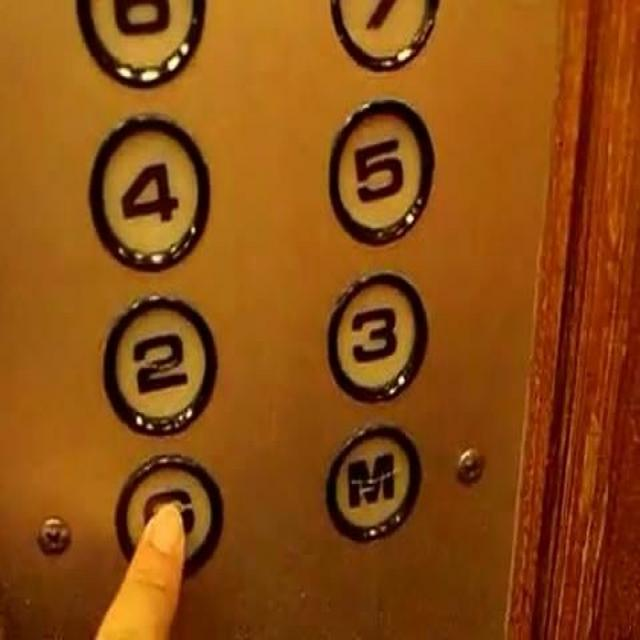2: (96, 288, 219, 441)
3: (322, 264, 430, 408)
4: (83, 107, 213, 277)
5: (323, 92, 437, 251)
M: (322, 418, 426, 550)
